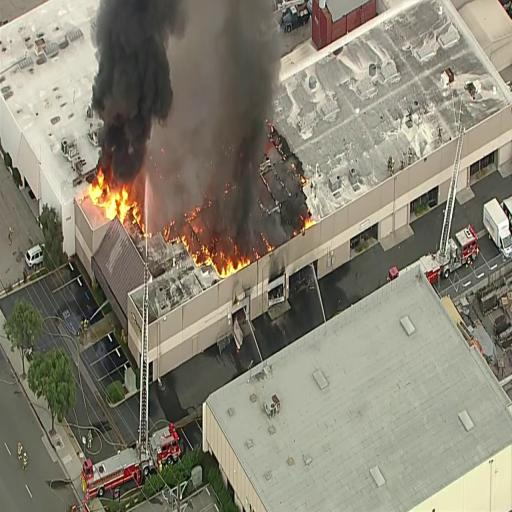fire: (84, 160, 144, 214)
smoke: (193, 0, 257, 243), (106, 2, 146, 163)
